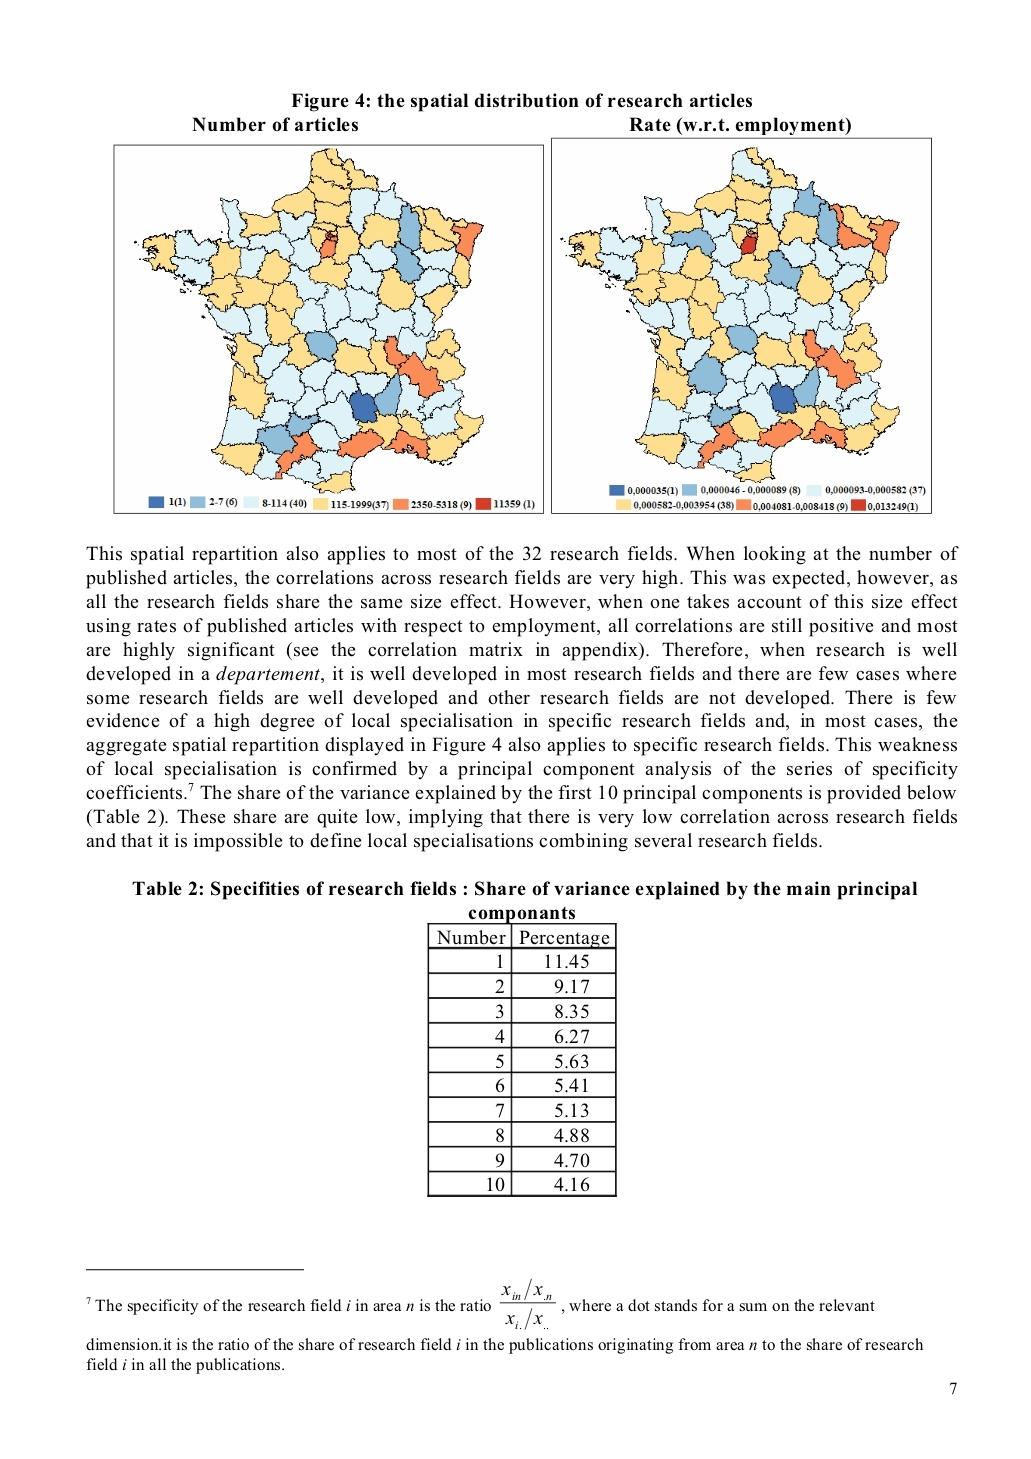Table: (427, 905, 616, 1197)
figure: (113, 144, 543, 513), (551, 137, 931, 513)
